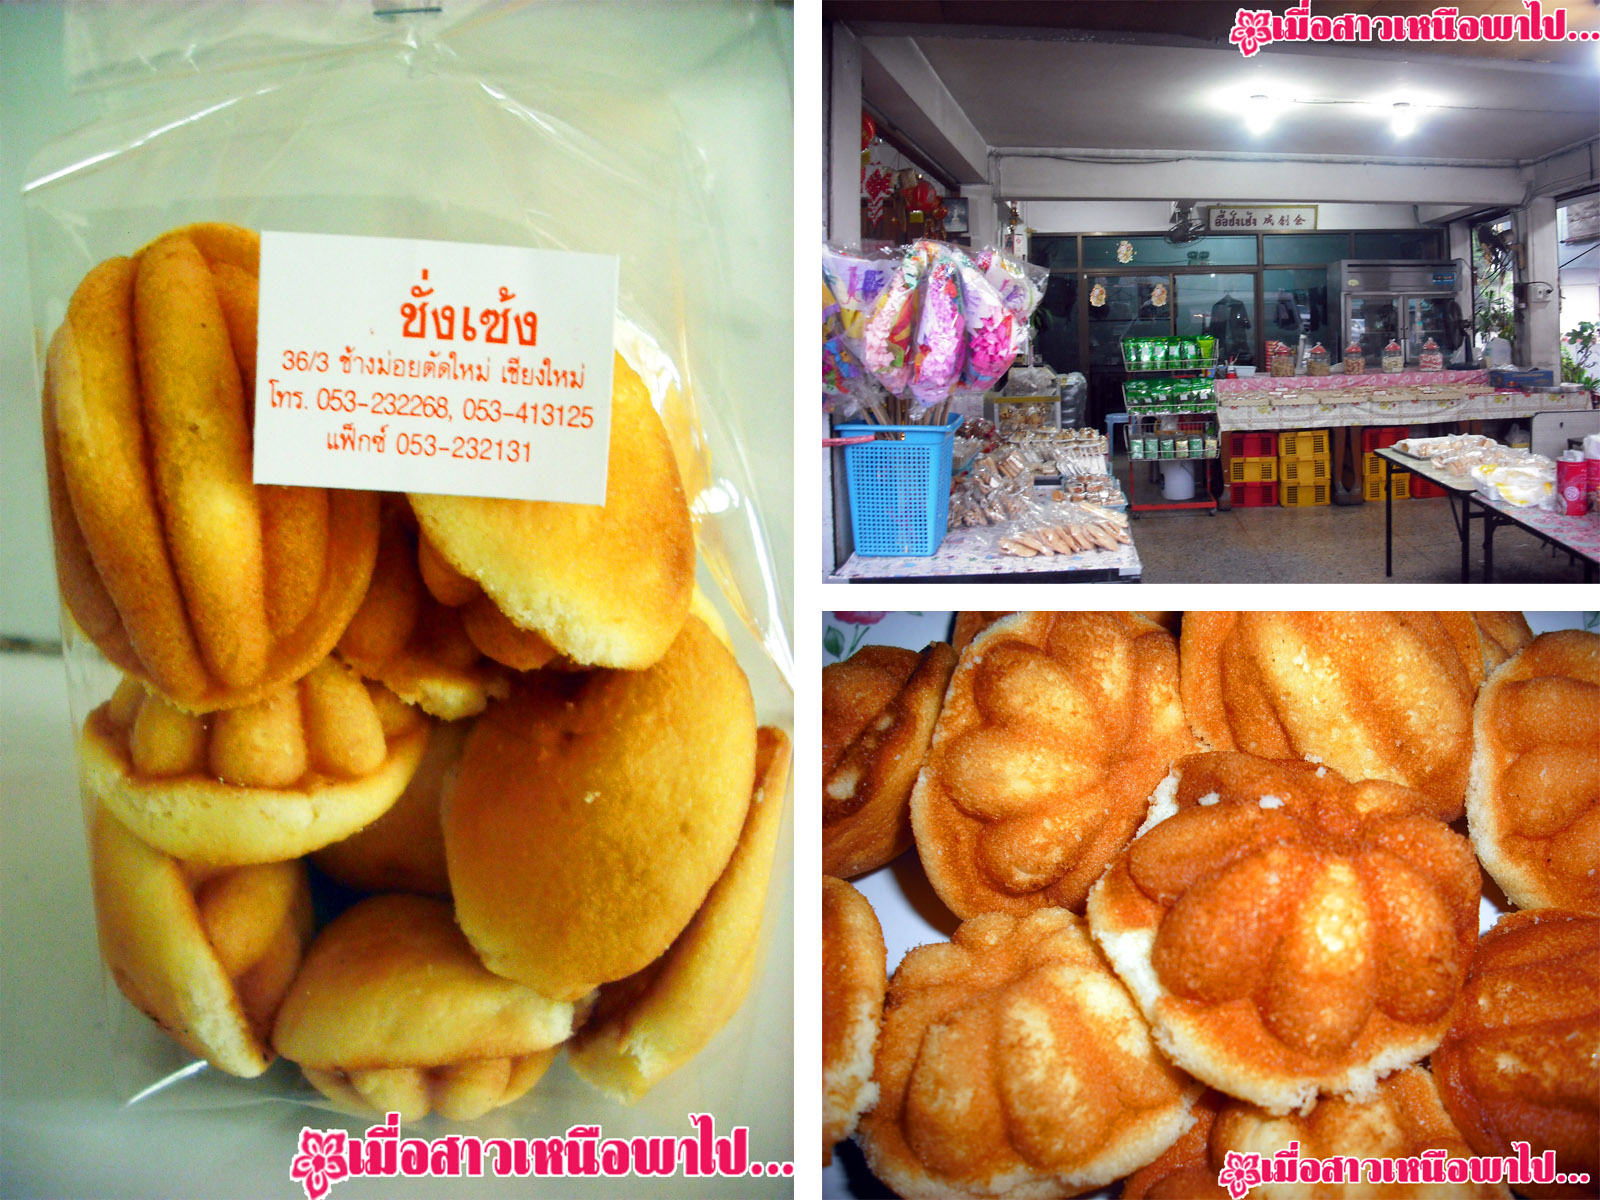kanomkai: (30, 205, 403, 742), (1082, 730, 1511, 1114), (843, 868, 1228, 1197), (905, 609, 1218, 932)
